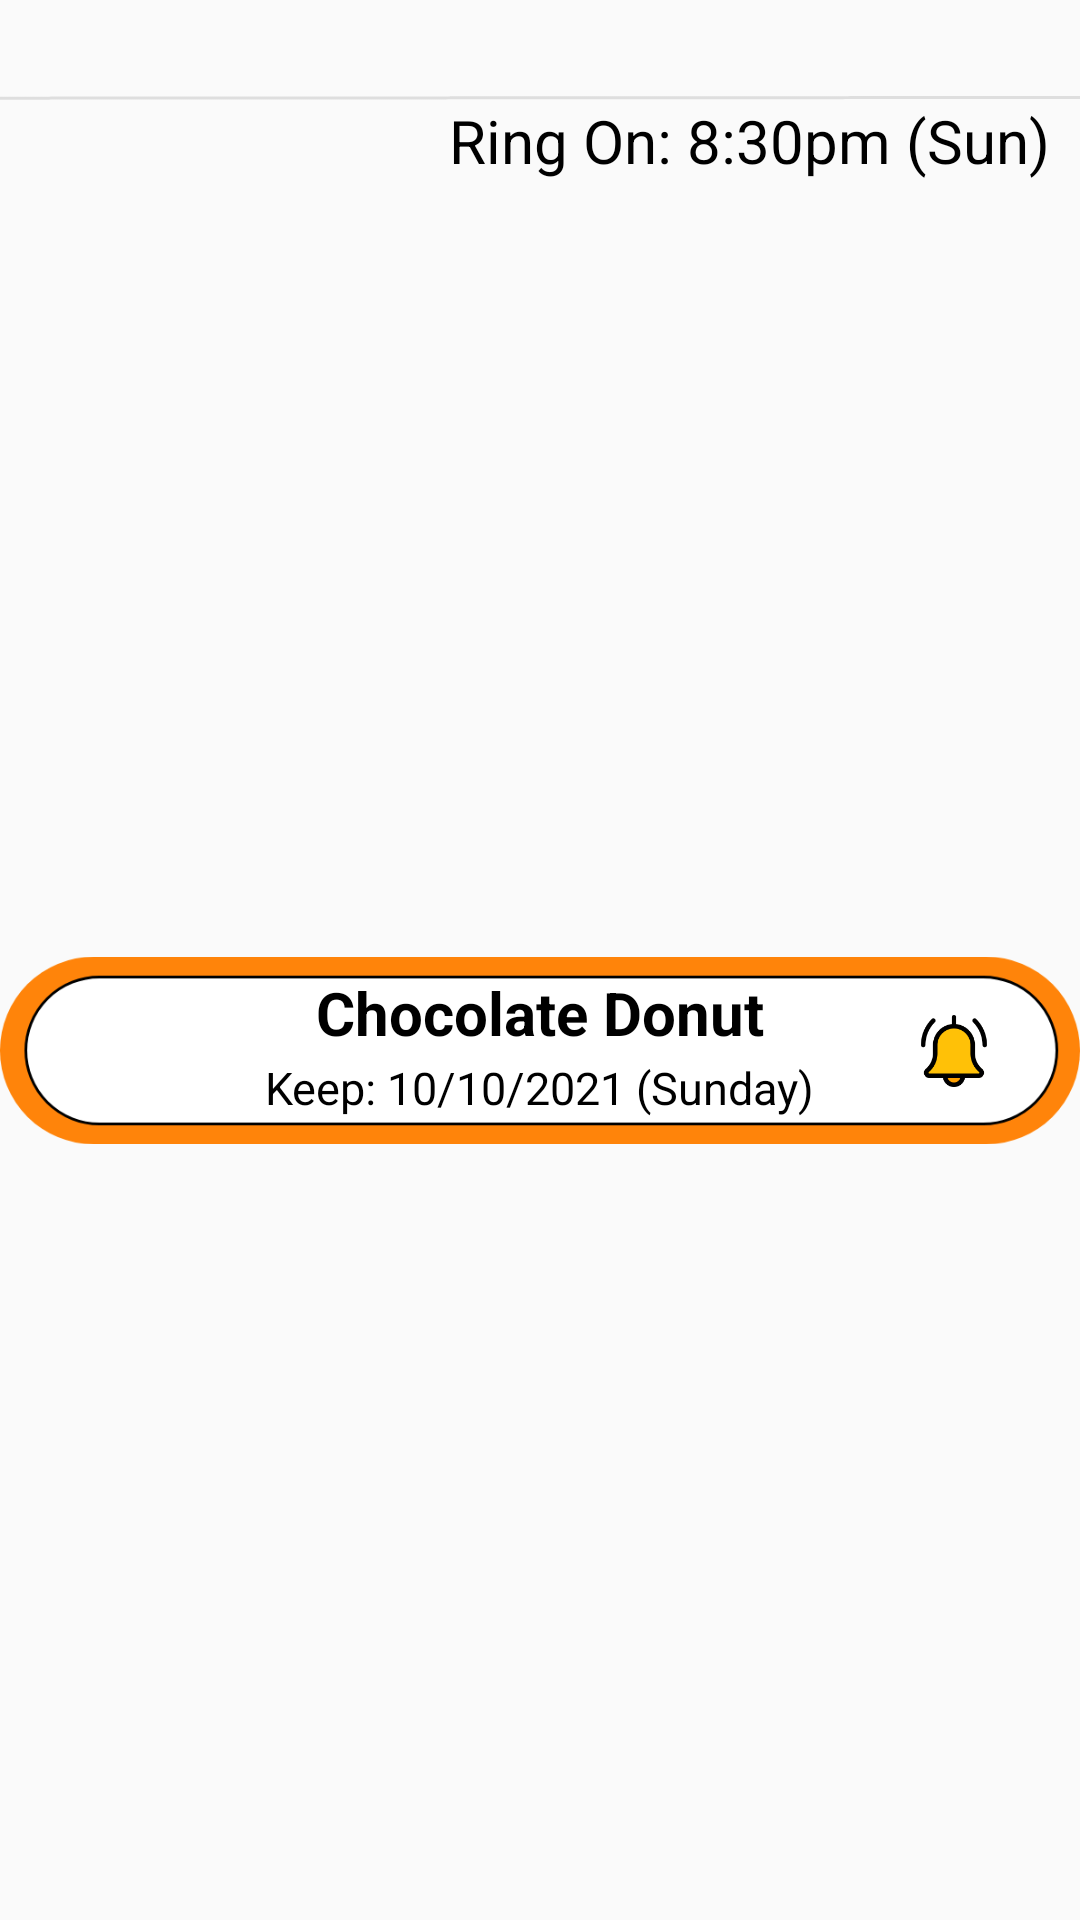

Named icons in this screenshot (1080 × 1920) and their centers, (x=x, y=y):
bell: (x=954, y=1051)
